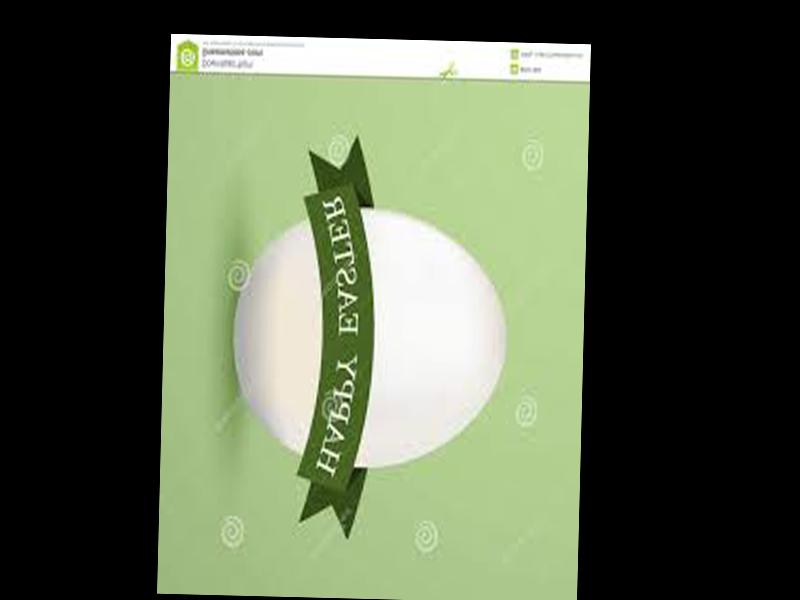Eggs: (231, 203, 509, 468)
